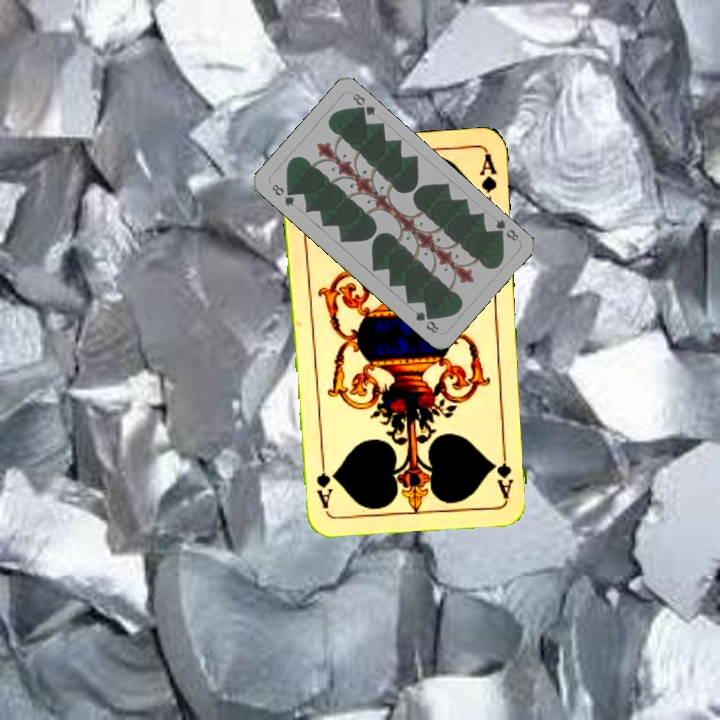G8: (490, 215, 521, 244), (267, 180, 297, 209)
GA: (492, 441, 516, 501)
